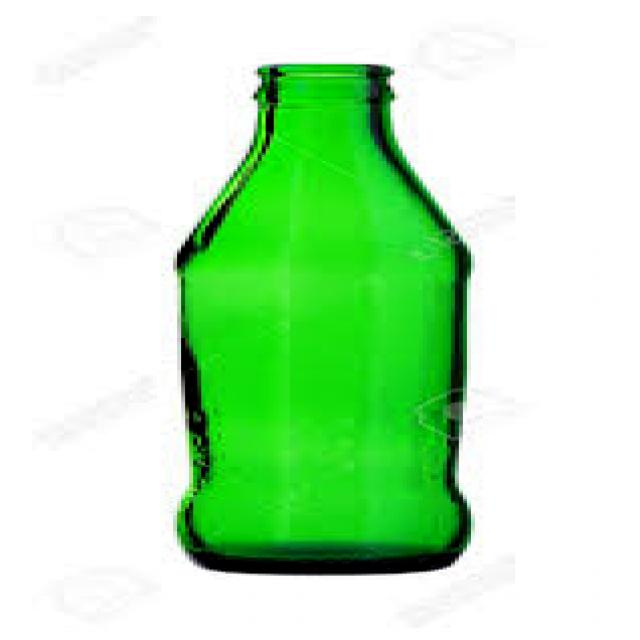Glass: (163, 58, 481, 582)
